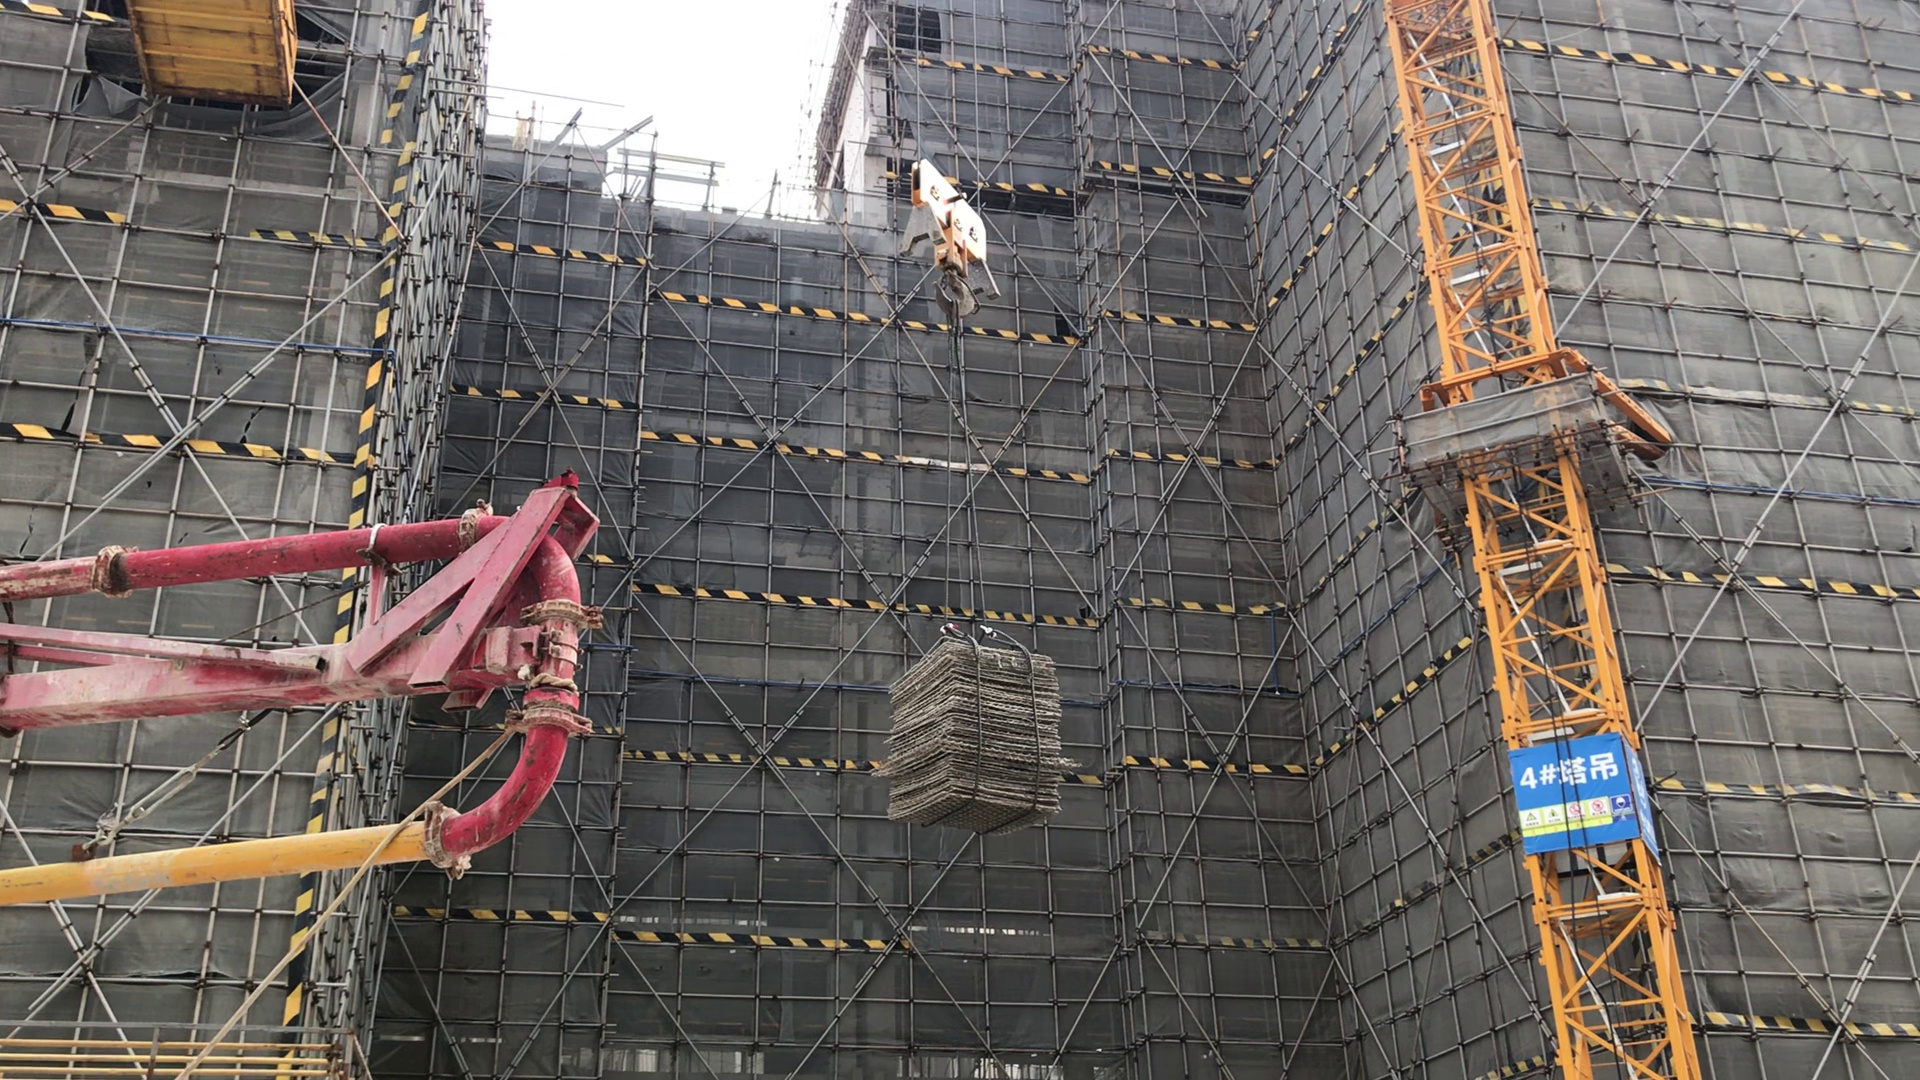hook: (902, 157, 1002, 315)
slogan: (1519, 749, 1636, 835)
